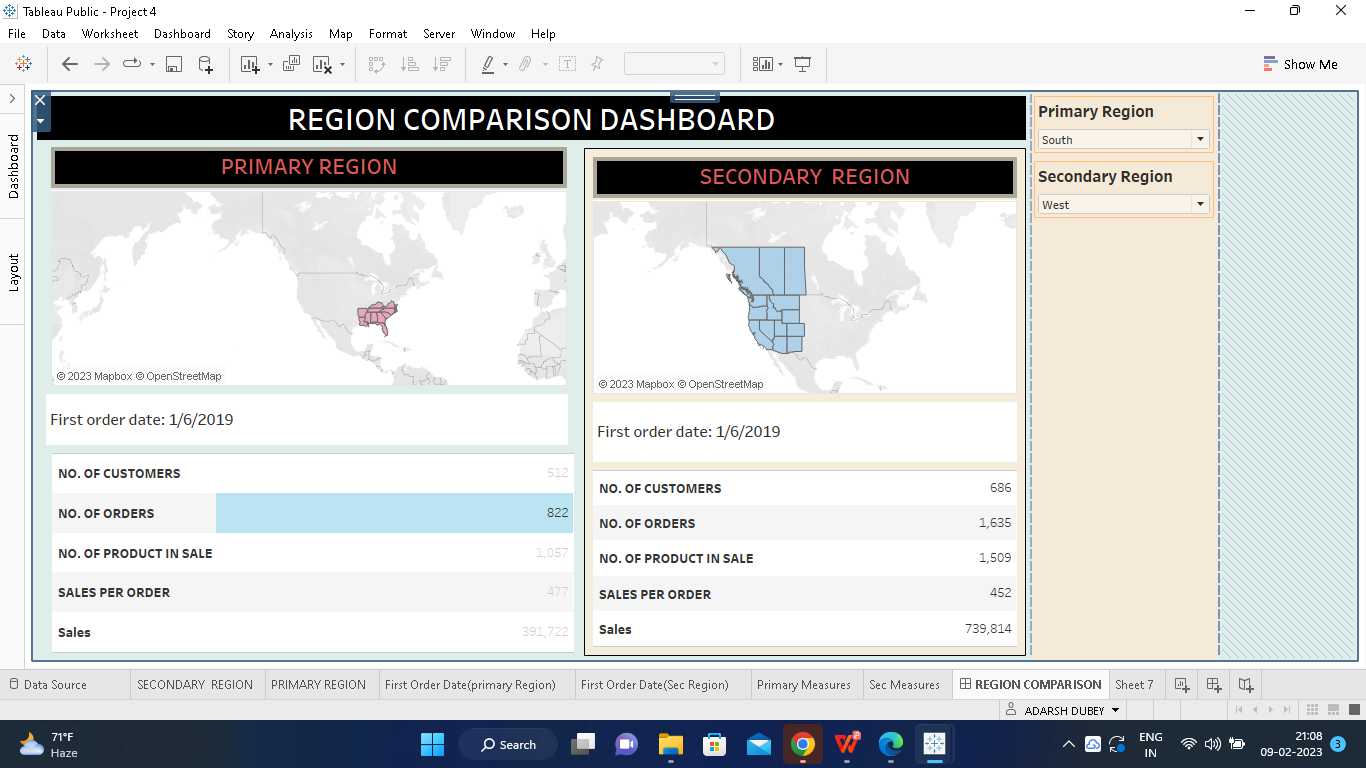

This screenshot's page, from the dashboard's own definition file:
{"tool":"tableau","page":{"name":"REGION COMPARISON","canvas":[1000,1000],"units":"permille","ordinal":0},"visuals":[{"type":"text","box":[7.5,13.7,808.5,88.8]},{"type":"parameter","param":"[Parameters].[Parameter 1]","box":[816,13.7,176.5,89]},{"type":"worksheet","title":"PRIMARY REGION","mark":"Multipolygon","box":[16.4,101,391,422.9]},{"type":"blank","box":[7.5,102.5,443.7,883.8]},{"type":"parameter","param":"[Parameters].[Parameter 2]","box":[816,102.7,176.5,89]},{"type":"worksheet","title":"SECONDARY  REGION","mark":"Multipolygon","box":[459.6,117.9,347.9,419.5]},{"type":"worksheet","title":"First Order Date(primary Region)","mark":"Automatic","box":[12.7,524,395.5,101]},{"type":"worksheet","title":"First Order Date(Sec Region) ","mark":"Automatic","box":[459.6,537.5,347.9,116.4]},{"type":"worksheet","title":"Primary Measures","mark":"Automatic","box":[17.2,625,395.5,356.2]},{"type":"worksheet","title":"Sec Measures","mark":"Automatic","box":[459.6,653.9,347.9,317]}]}

Visuals, with their boxes on the dashboard's canvas, which has no fixed pixel size, in thousandths of its width and height (x1, y1, x2, y2). These are canvas units, not pixel positions in the 1366x768 screenshot, which may show the page scaled, cropped or inside an application window:
text: 8, 14, 816, 102
parameter: 816, 14, 992, 103
"PRIMARY REGION" worksheet (Multipolygon marks): 16, 101, 407, 524
blank: 8, 102, 451, 986
parameter: 816, 103, 992, 192
"SECONDARY  REGION" worksheet (Multipolygon marks): 460, 118, 808, 537
"First Order Date(primary Region)" worksheet: 13, 524, 408, 625
"First Order Date(Sec Region) " worksheet: 460, 538, 808, 654
"Primary Measures" worksheet: 17, 625, 413, 981
"Sec Measures" worksheet: 460, 654, 808, 971
